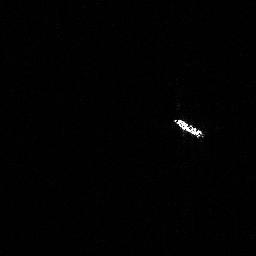ship: (170, 116, 207, 141)
